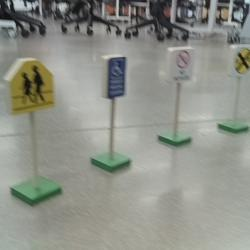disabled_persons_crossing: (100, 54, 127, 100)
no_bicycle: (165, 46, 195, 83)
railroad_crossing: (227, 44, 250, 78)
school_crossing: (4, 58, 56, 116)
